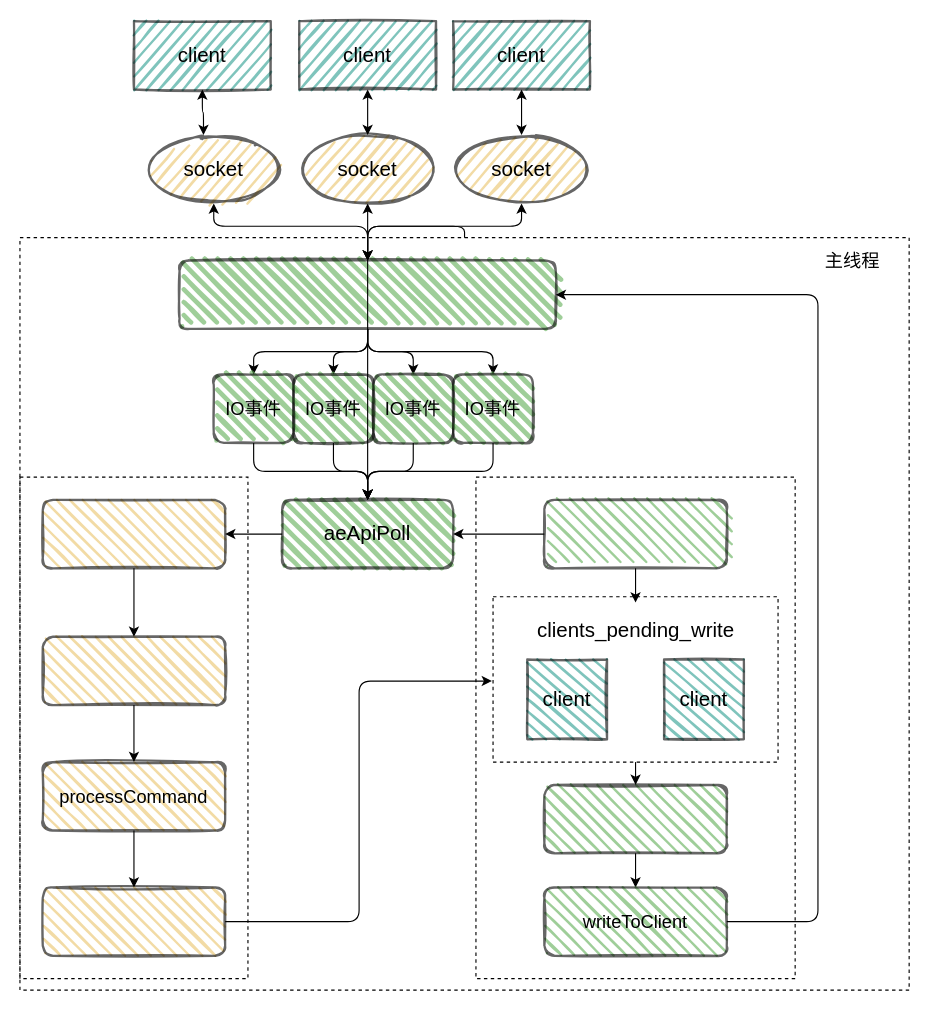
This 929x1010 diagram has some shape labels left out. Here are the shapes that lost their labels. From the top down, the centre of each, then its label:
At point (367, 294): "I/O Multiplexing".
At point (133, 533): "acceptTcpHandler".
At point (635, 533): "beforeSleep".
At point (133, 670): "readQueryFromClient".
At point (635, 818): "sendReplyToClient".
At point (133, 921): "addReply".
